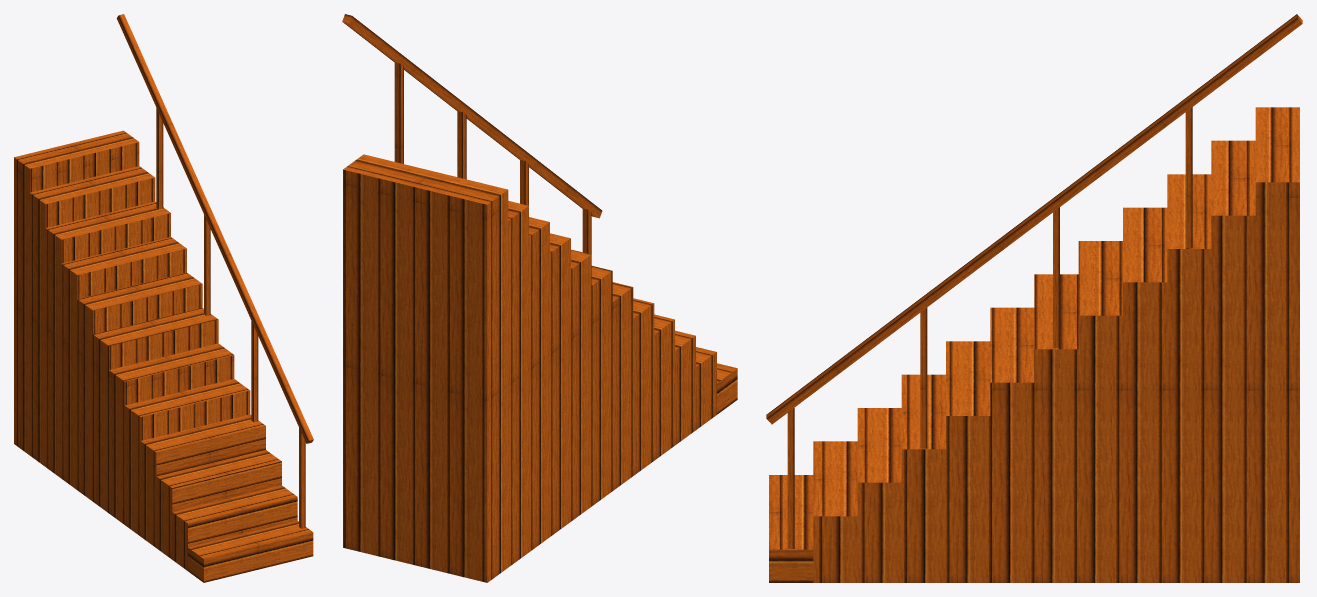
Rendered from Stairs_Interior.fbx.
3 views of the same model, side by side, from view 1: azimuth 30°, elevation 25°; view 2: azimuth 150°, elevation 25°; view 3: azimuth 270°, elevation 25° (orthographic). The views are drawn at different scales.
Parts seen in each view (by area): view 1: Stairs_Interior; view 2: Stairs_Interior; view 3: Stairs_Interior.
Part boxes in pixels (x1,y1,x2,y2): Stairs_Interior: (14, 14, 313, 582); Stairs_Interior: (342, 14, 737, 582); Stairs_Interior: (766, 14, 1302, 582).
Bounding box in the file's own units: 1 × 3.52 × 3.03.
